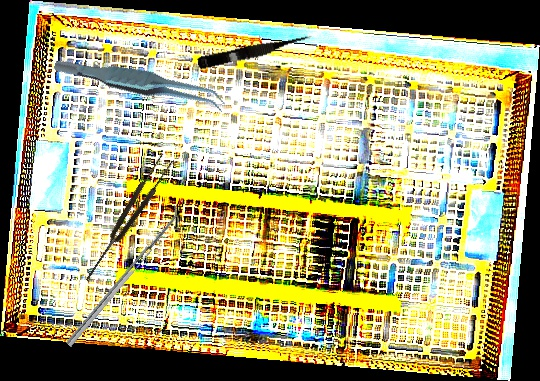Micro Scissor: (196, 31, 315, 72)
Spatula Surgical: (60, 203, 184, 348)
Tissue Forceps: (52, 25, 229, 142), (78, 152, 176, 285)
